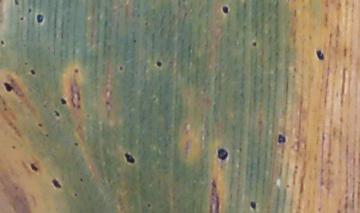tarspot: (122, 150, 136, 165), (216, 147, 228, 161), (276, 132, 288, 145), (51, 177, 63, 190), (2, 80, 14, 92), (315, 48, 325, 62), (34, 13, 45, 24), (29, 162, 39, 174), (249, 199, 257, 213), (58, 96, 69, 106), (220, 4, 229, 16), (52, 108, 62, 118), (29, 67, 36, 78), (250, 40, 258, 48), (26, 7, 34, 15), (72, 140, 80, 148), (143, 19, 151, 27), (155, 59, 162, 68), (18, 15, 25, 24), (117, 63, 124, 72), (72, 190, 79, 199), (131, 37, 138, 45), (104, 99, 111, 107), (78, 176, 85, 184), (10, 143, 17, 151), (283, 182, 291, 189), (1, 38, 6, 48), (22, 60, 29, 67), (145, 201, 152, 208), (12, 1, 20, 7), (36, 122, 44, 128), (335, 208, 344, 213), (73, 67, 79, 74), (293, 164, 300, 170), (1, 99, 7, 105), (2, 106, 9, 111), (44, 132, 49, 138)
